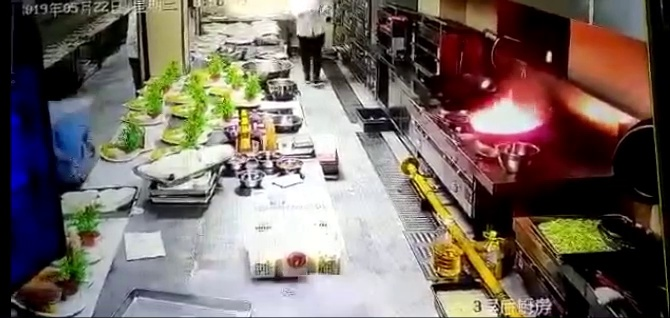fire: (472, 80, 537, 134)
